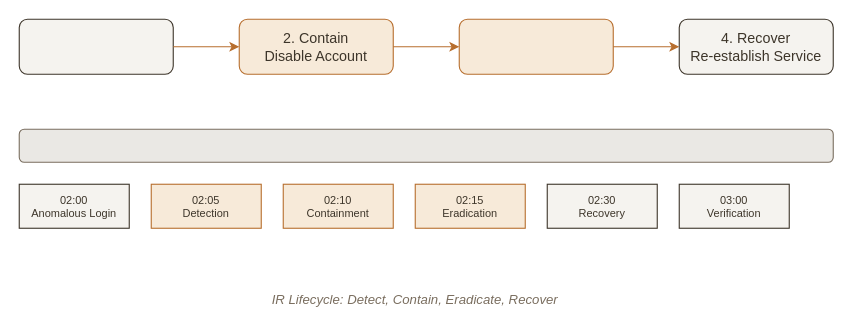
Some shapes in this 853 by 336 pixel diagram are drawn without their labels. Each missing label, with the centre of its shape:
1. Detect Audit Logs: (x=95, y=46)
3. Eradicate Reset Credentials: (x=535, y=46)
Incident Timeline: (x=425, y=145)
